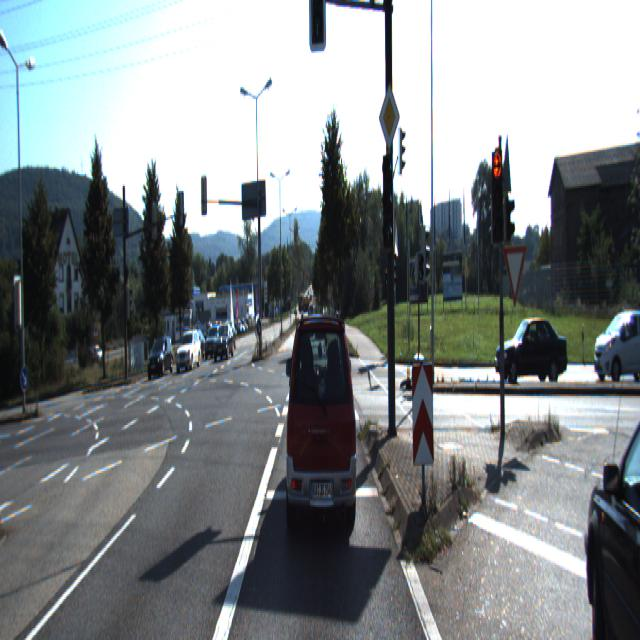Car: (578, 366, 640, 638), (285, 306, 358, 532), (495, 314, 569, 393), (594, 304, 640, 379), (147, 336, 174, 376), (176, 332, 201, 373), (212, 325, 235, 363)
